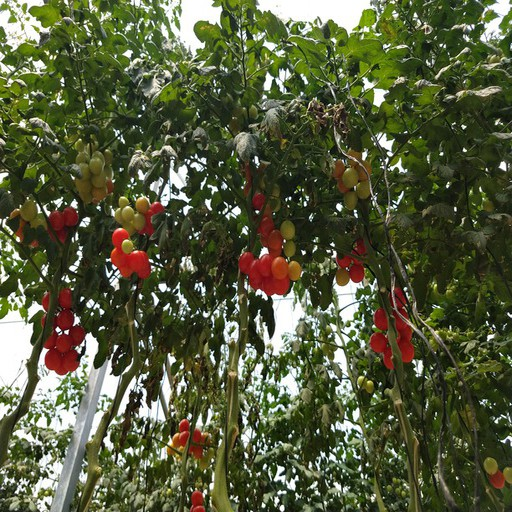green tomato bunch: (329, 147, 372, 209), (75, 140, 112, 202), (116, 196, 165, 234)
mixed tomato bunch: (9, 200, 76, 244)
red tomato bunch: (41, 289, 84, 374), (371, 286, 416, 367), (244, 187, 296, 256), (240, 251, 303, 295), (110, 228, 151, 280), (166, 419, 211, 459), (336, 237, 371, 286)
